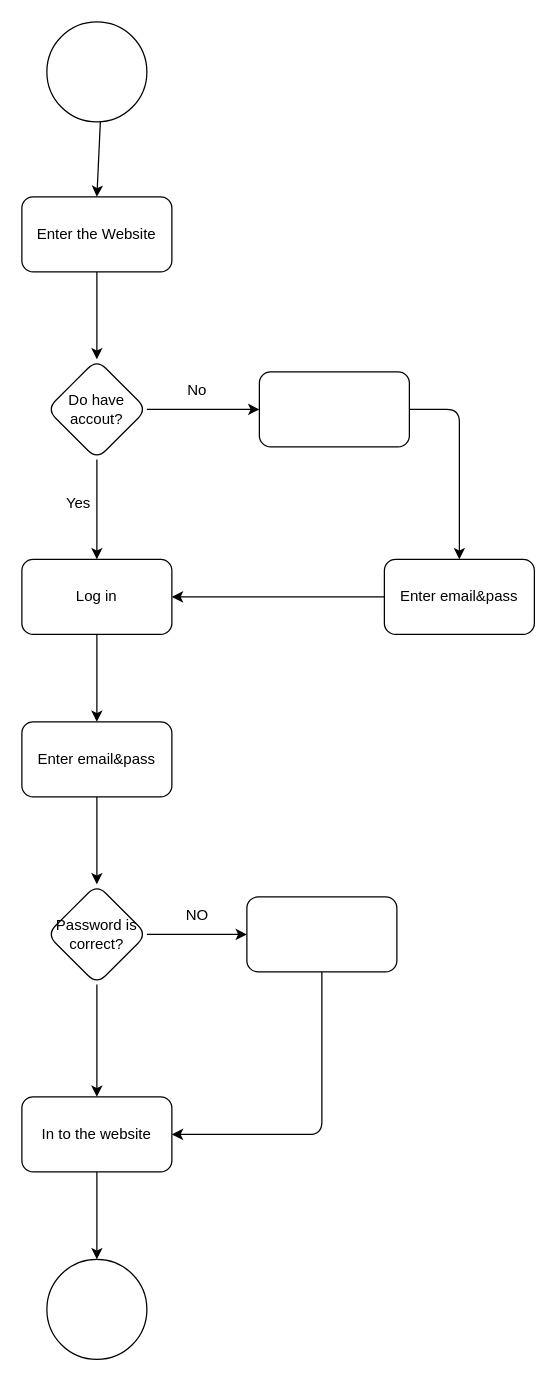
The diagram is 556 pixels wide and 1381 high, and some of its shapes have lost their labels. The shapes that lost their labels are listed below. From the top down, each one's centre as x and y in pixels, then its label:
the point at 96,71: START
the point at 333,409: SIgn Up
the point at 321,934: Re-enter
the point at 96,1308: END
